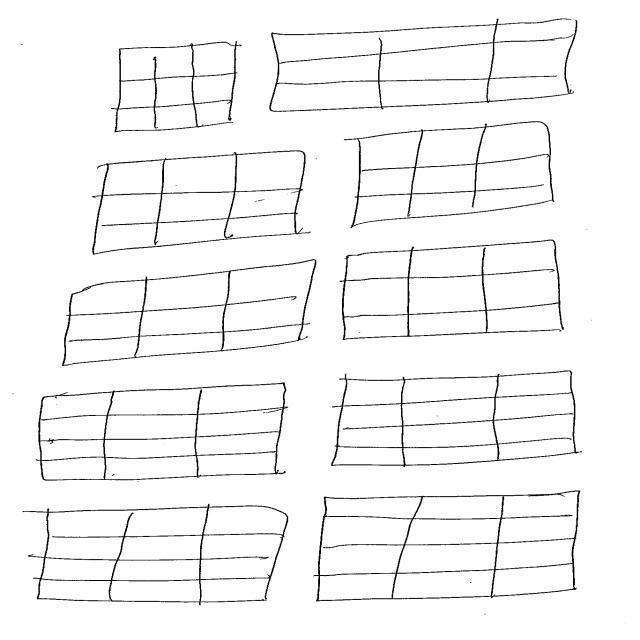table: (313, 490, 581, 604), (268, 18, 579, 114), (60, 257, 318, 367), (36, 505, 291, 605), (37, 382, 290, 482), (329, 370, 578, 468), (91, 149, 309, 257), (341, 240, 566, 341), (350, 122, 555, 229), (111, 41, 239, 135)
